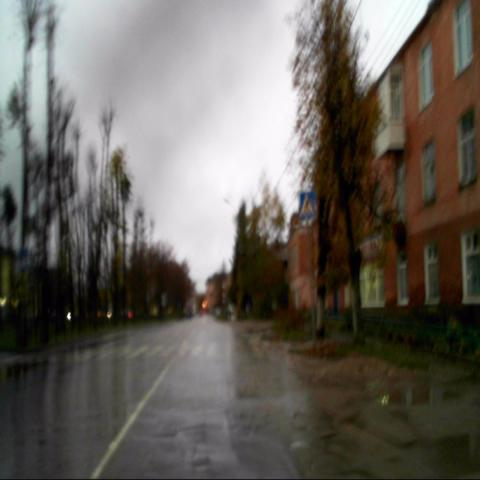5_19_1: (300, 191, 314, 219)
